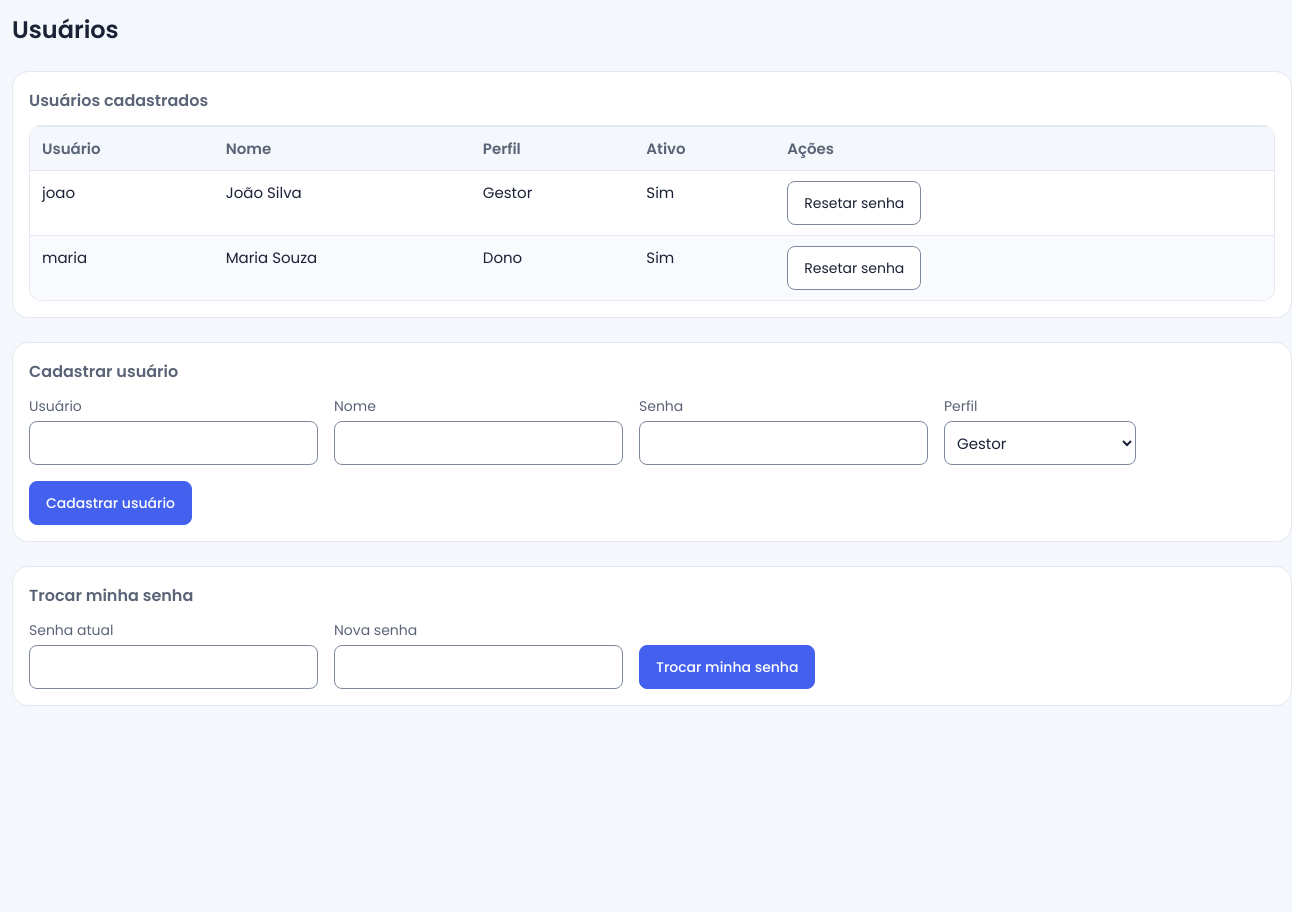
Scenario: UsuariosPage › cadastro bem-sucedido mostra confirmação com o nome do usuário criado
The width and height of the screenshot is (1292, 912).
Expected: the cell "joao" is shown, [30,170,214,236]
Type "ana" into the field labelled "Usuário" at [174, 443], box [29,421,318,465]
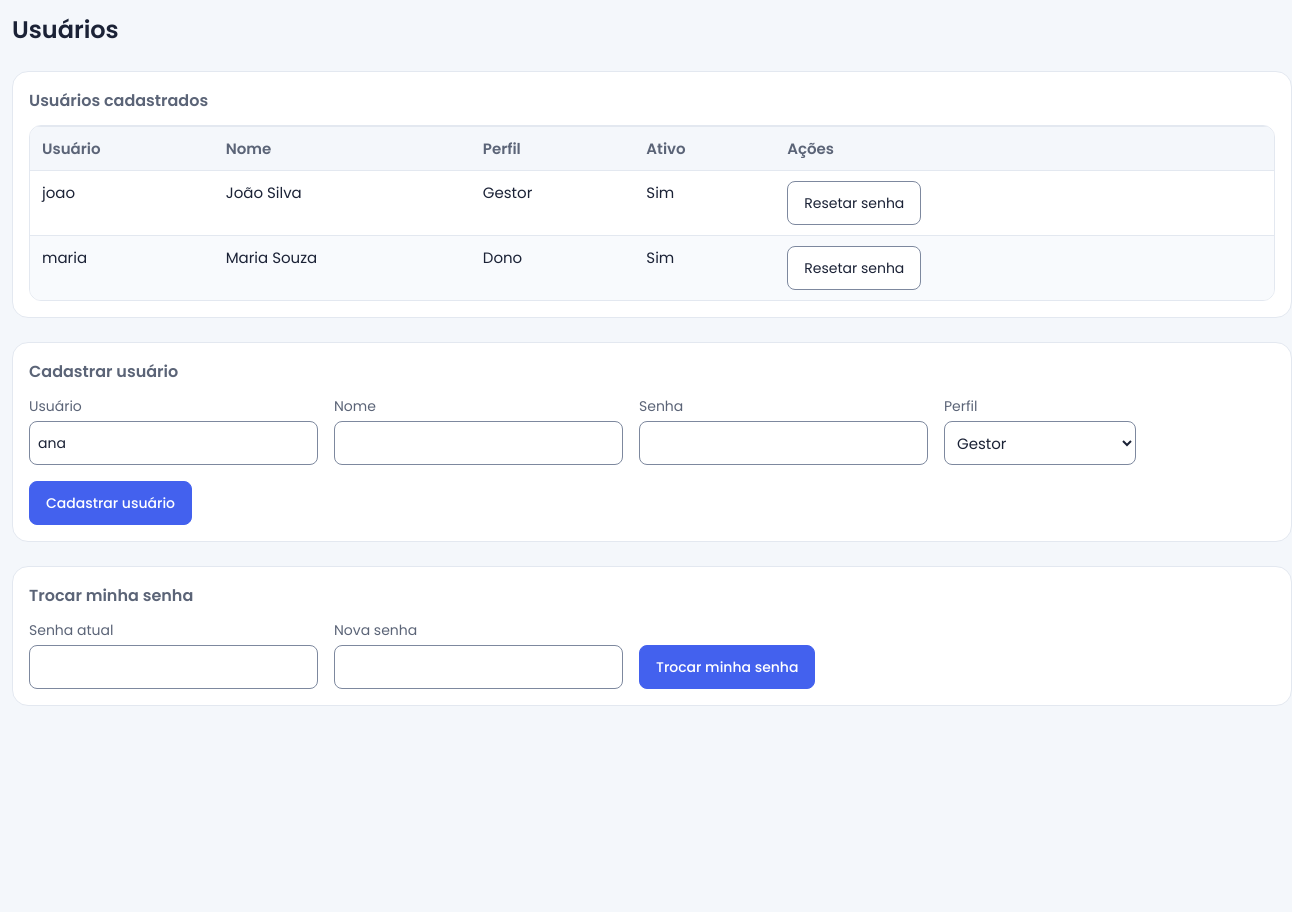
Type "Ana Lima" into the field labelled "Nome" at [478, 443], box [334,421,623,465]
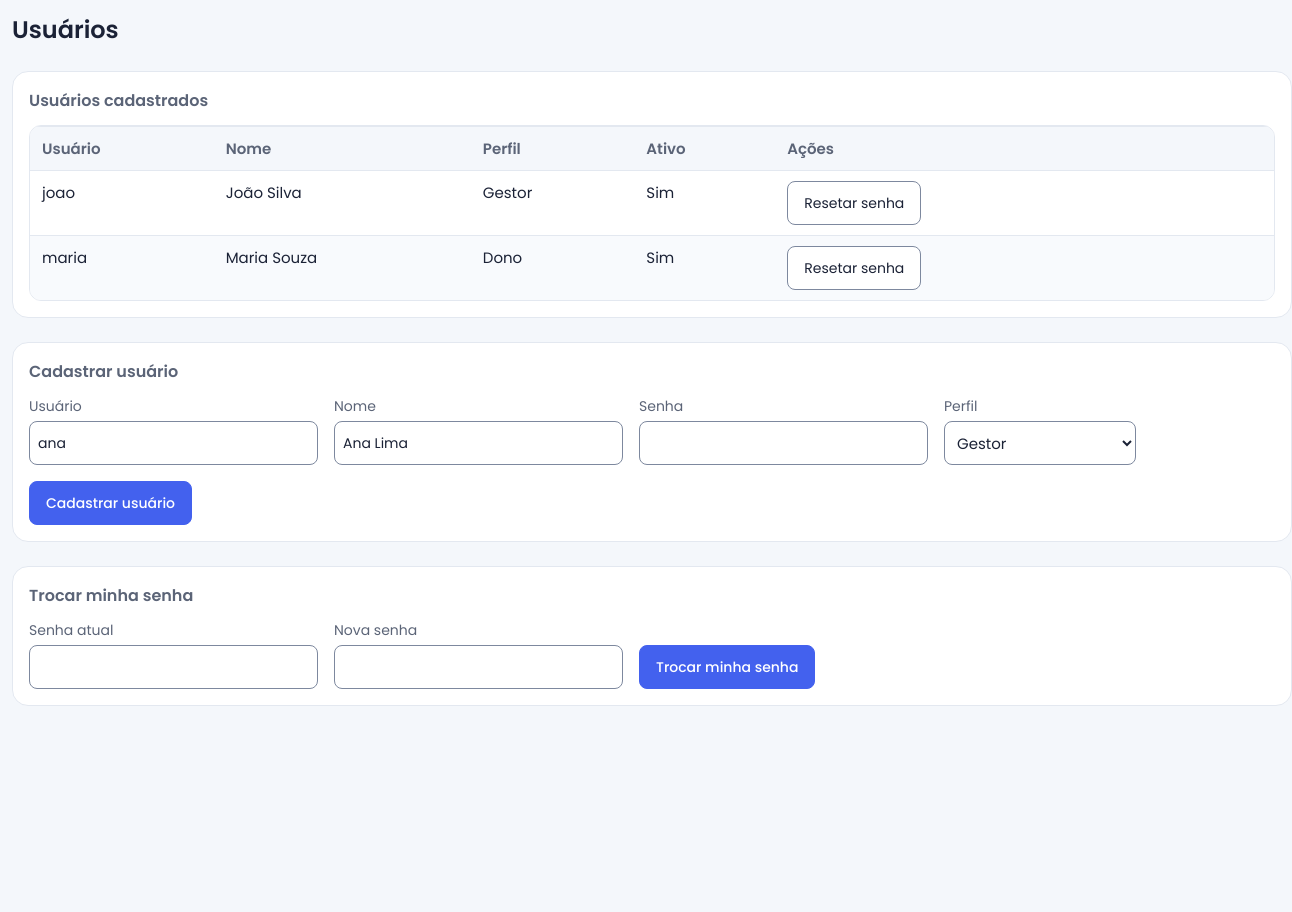
Type "segredo123" into the password field labelled "Senha" at [784, 443], box [639,421,928,465]
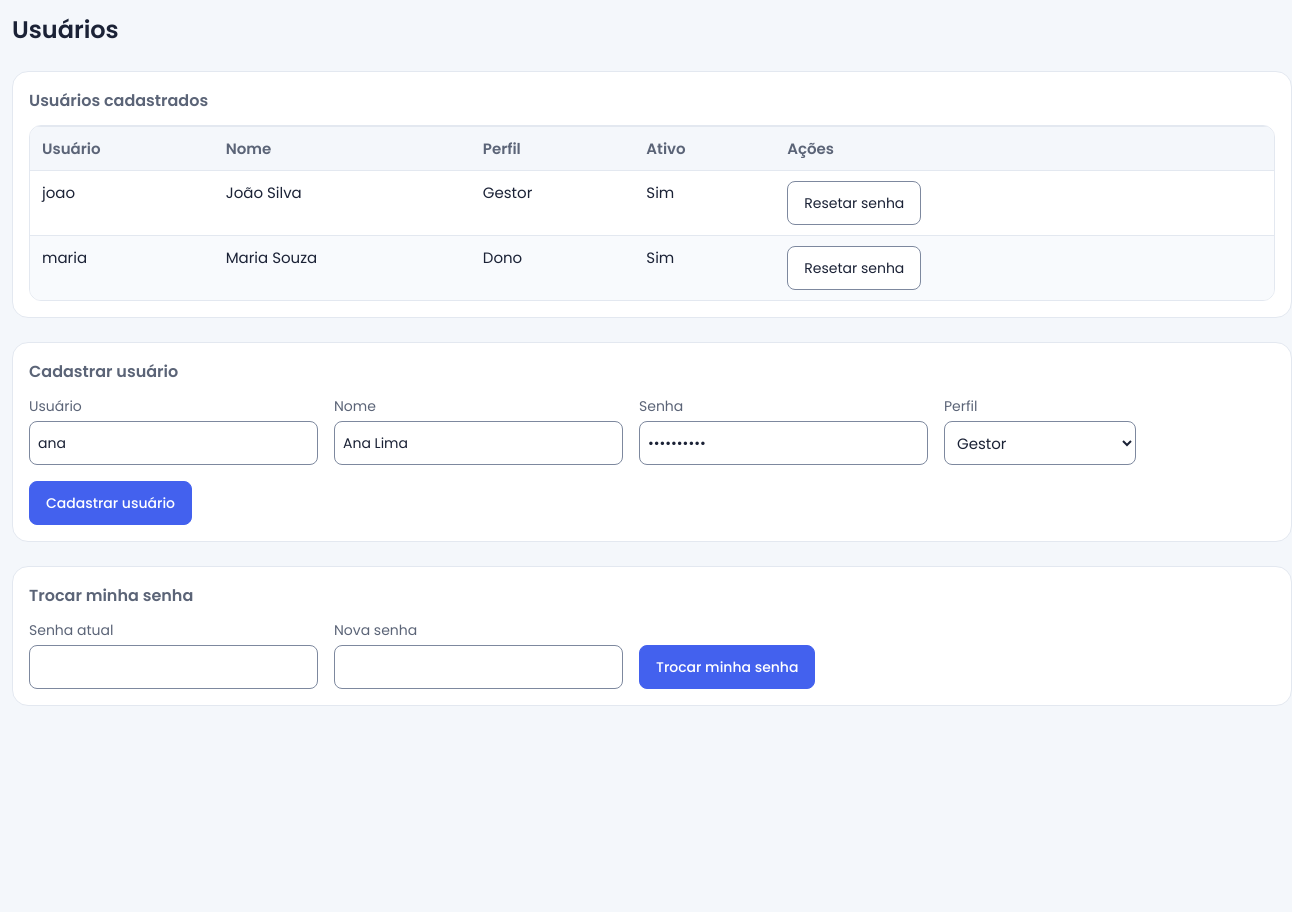
Click the button "Cadastrar usuário" at [110, 503], box [29,481,192,525]
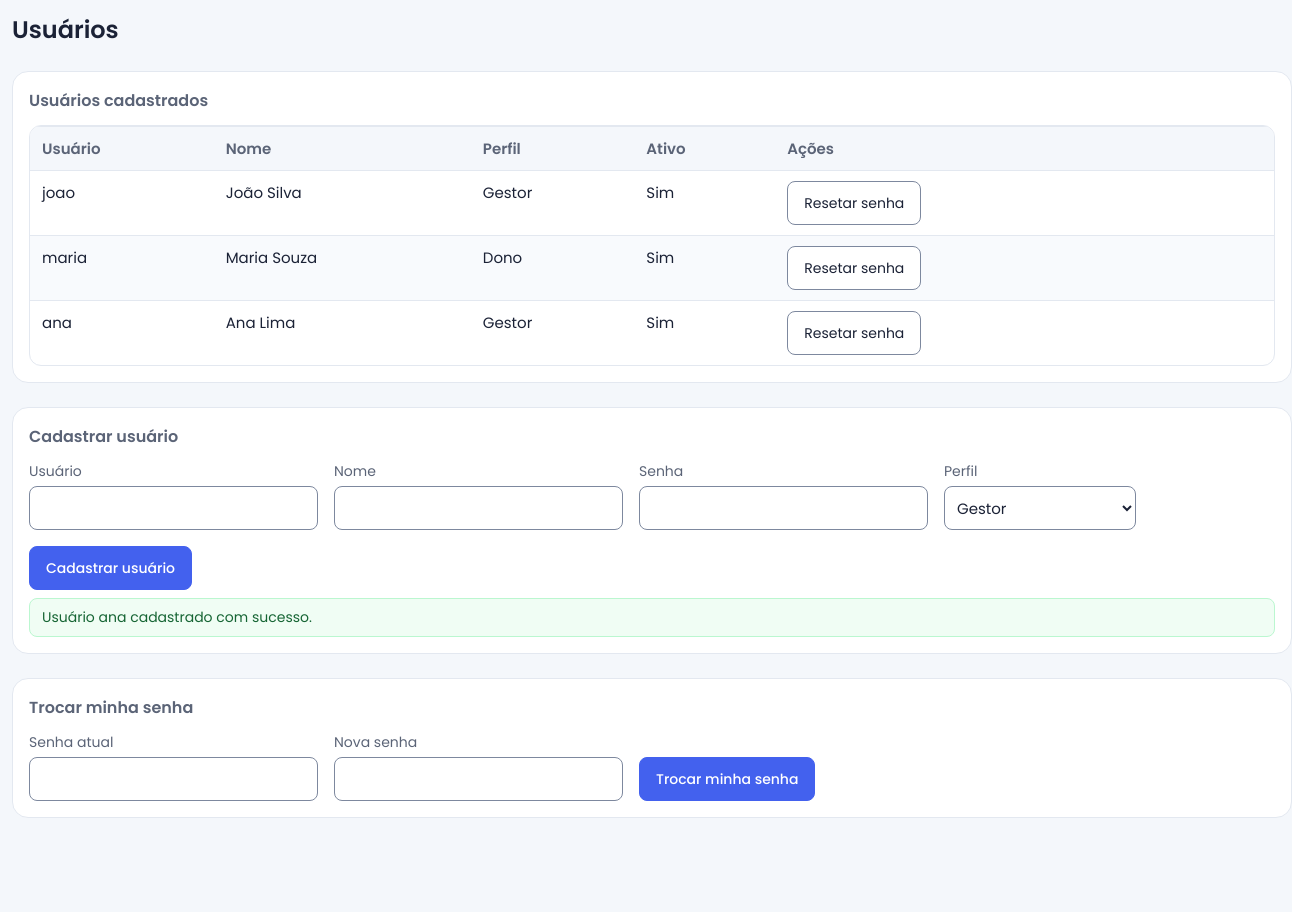
Now the message reads "Usuário ana cadastrado com sucesso.", box [42,607,312,627]
